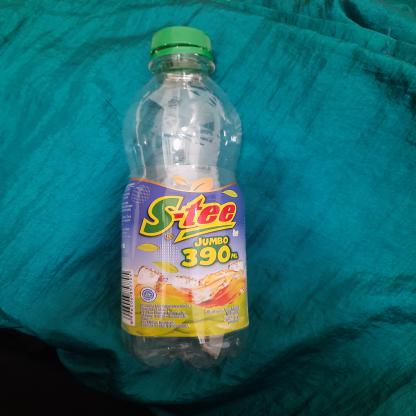bottle: (112, 23, 252, 374)
